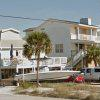Boat: (14, 64, 84, 90)
